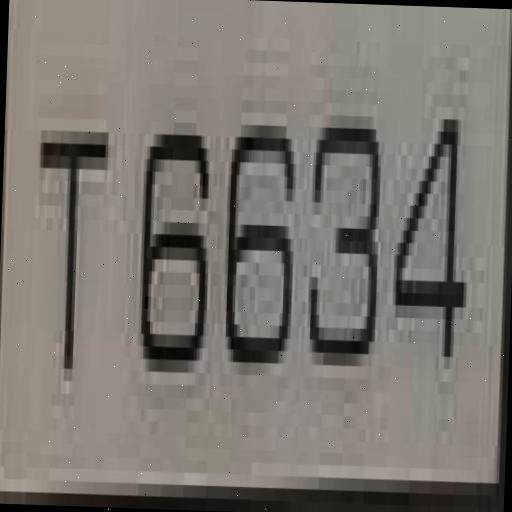number plate: (2, 3, 483, 512)
